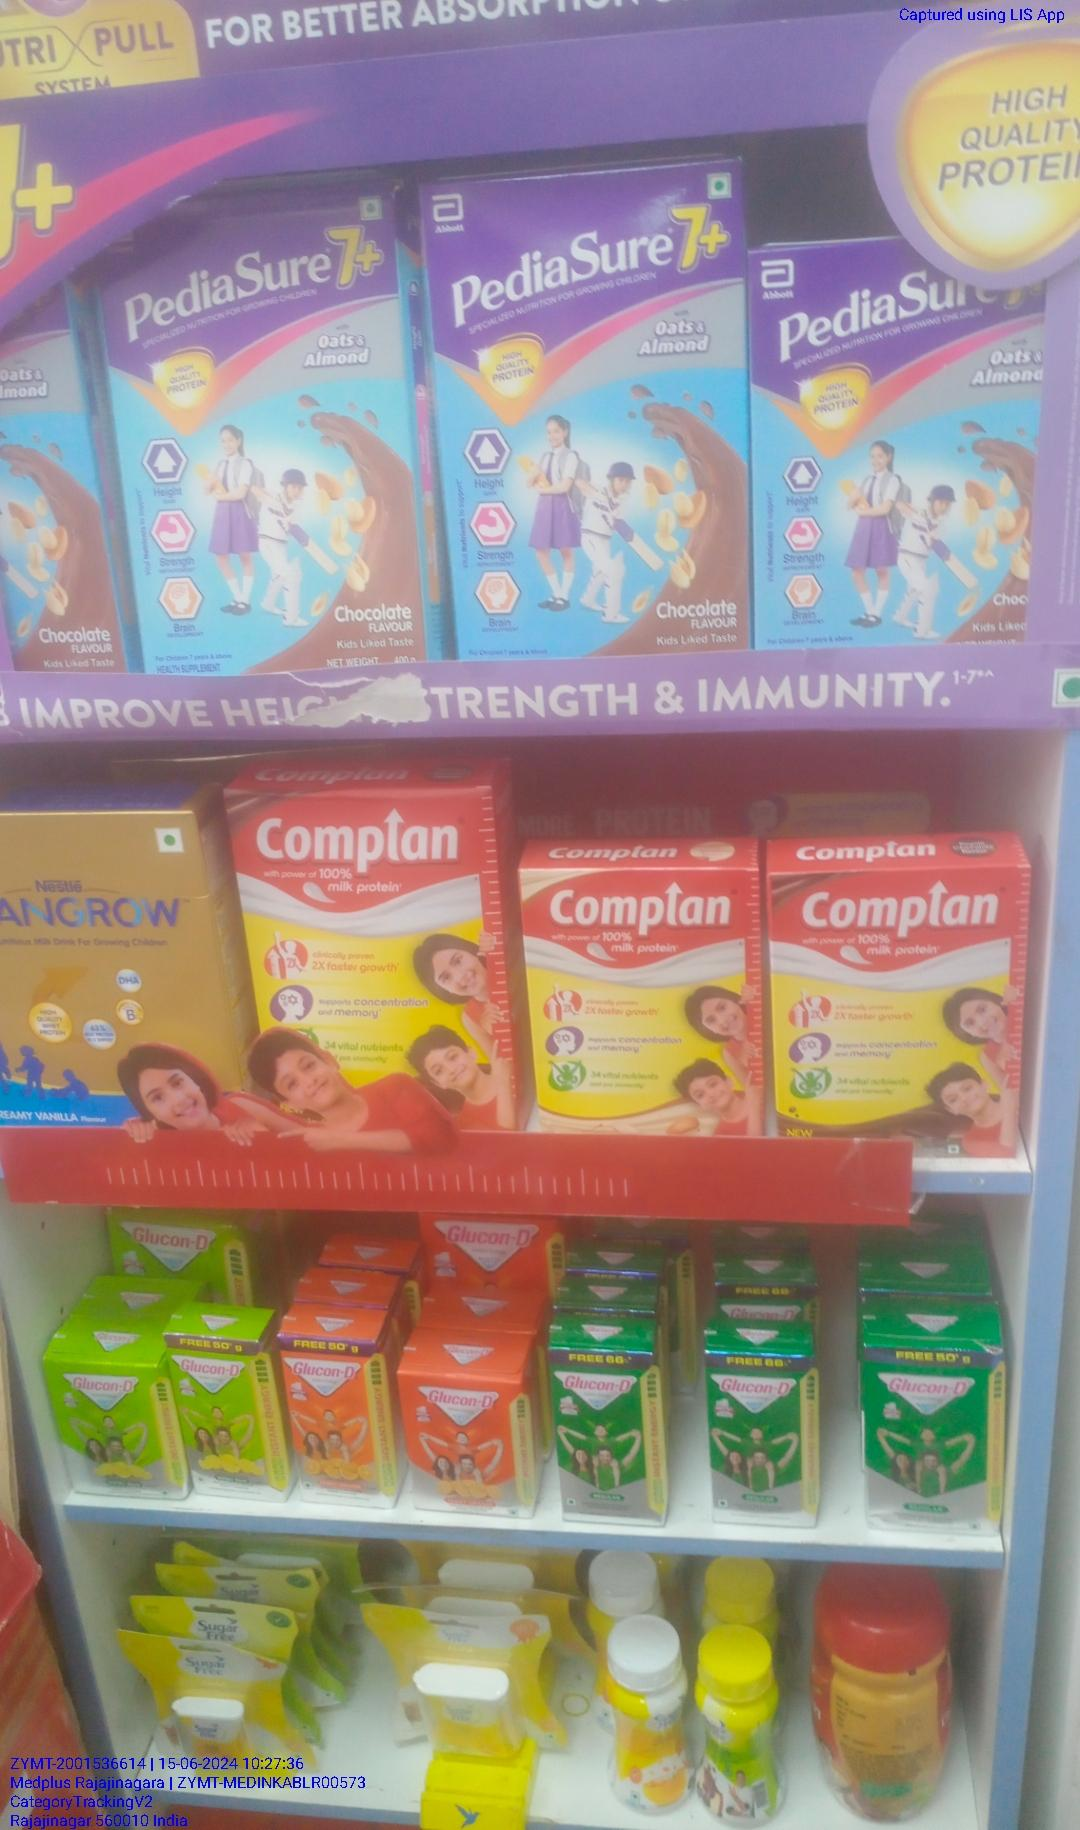COMPLAN_CHOCOLATE_200_GMS_PACK: (774, 867, 1025, 1141)
COMPLAN_CHOCOLATE_500_GMS_PACK: (235, 797, 501, 1042)
COMPLAN_KESAR_BADAM_200_GMS_PACK: (523, 873, 760, 1132)
PEDIASURE_7_PLUS_CHOCOLATE_400_G_PACK: (432, 177, 742, 652), (121, 197, 408, 675), (751, 252, 1034, 641)
